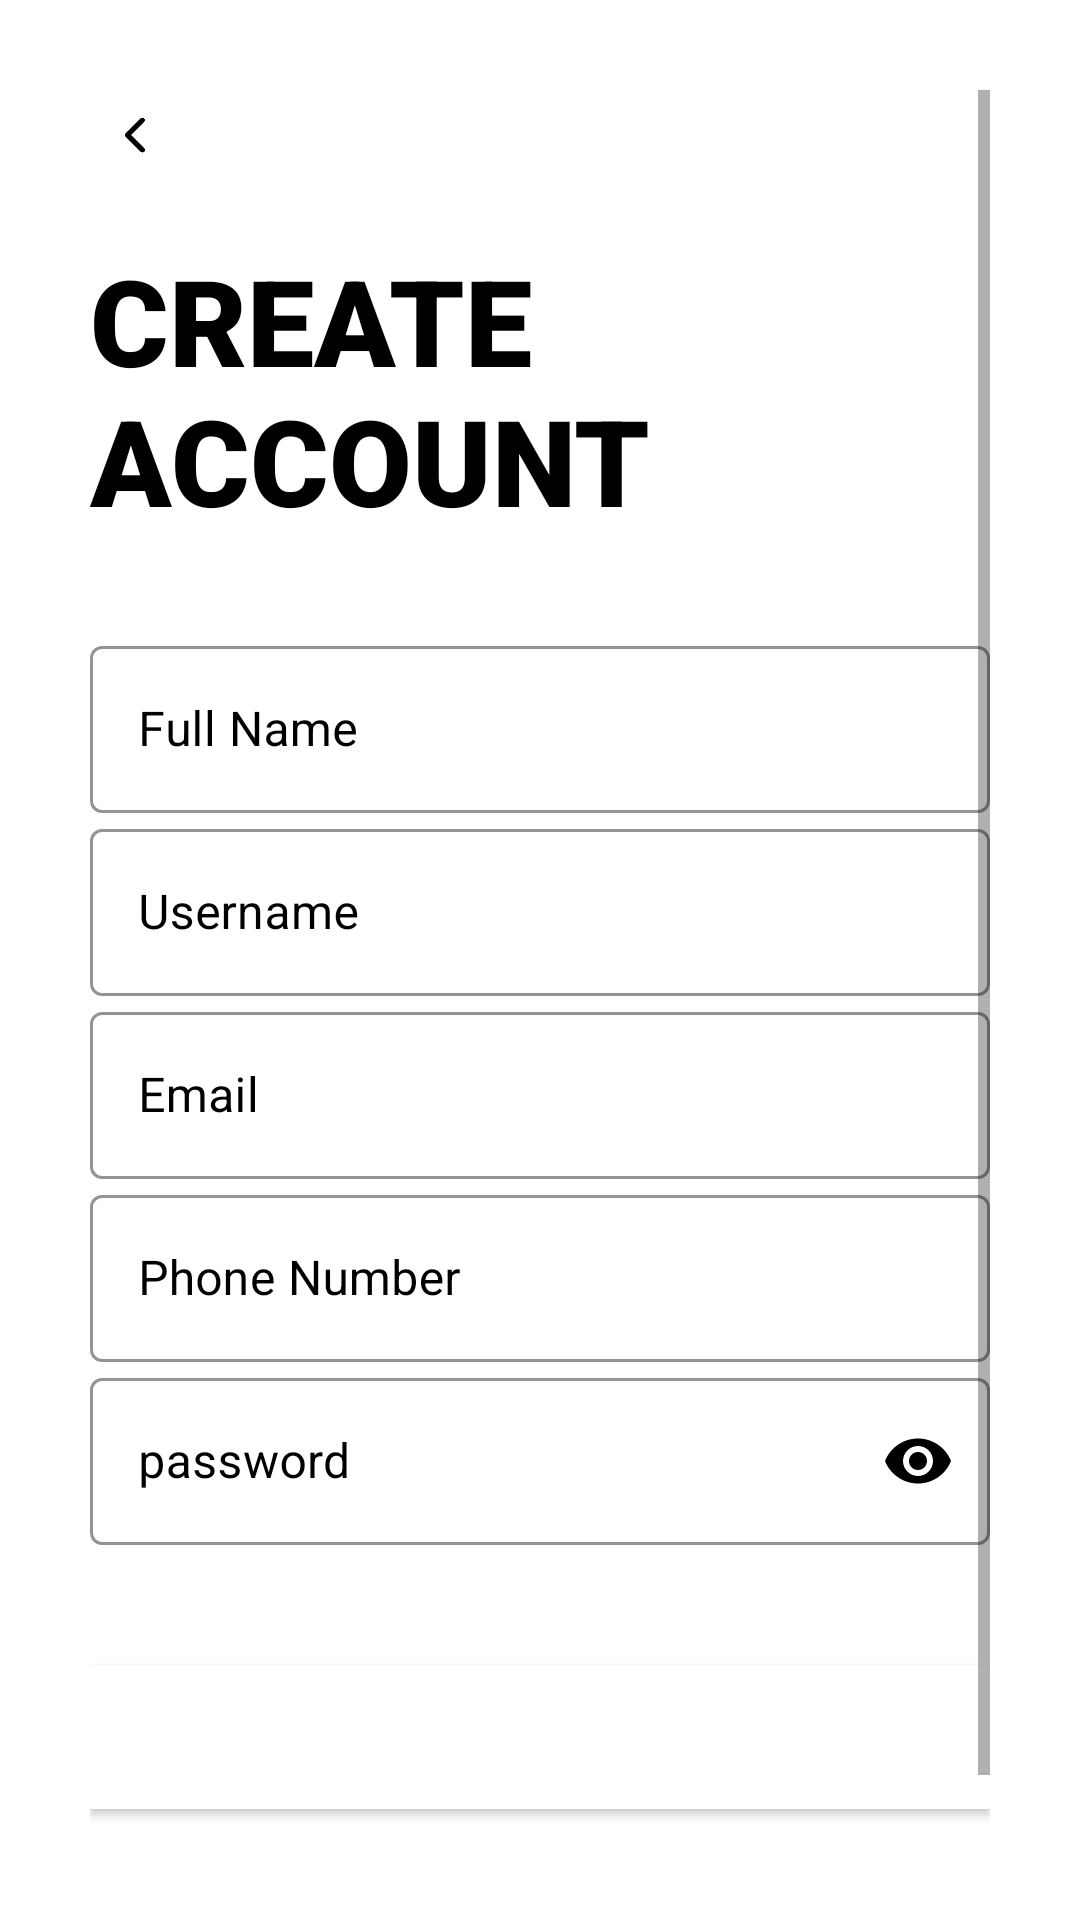

Screen size 1080x1920. Icon name, then its center in pixels as point (x, y):
back: point (135, 135)
